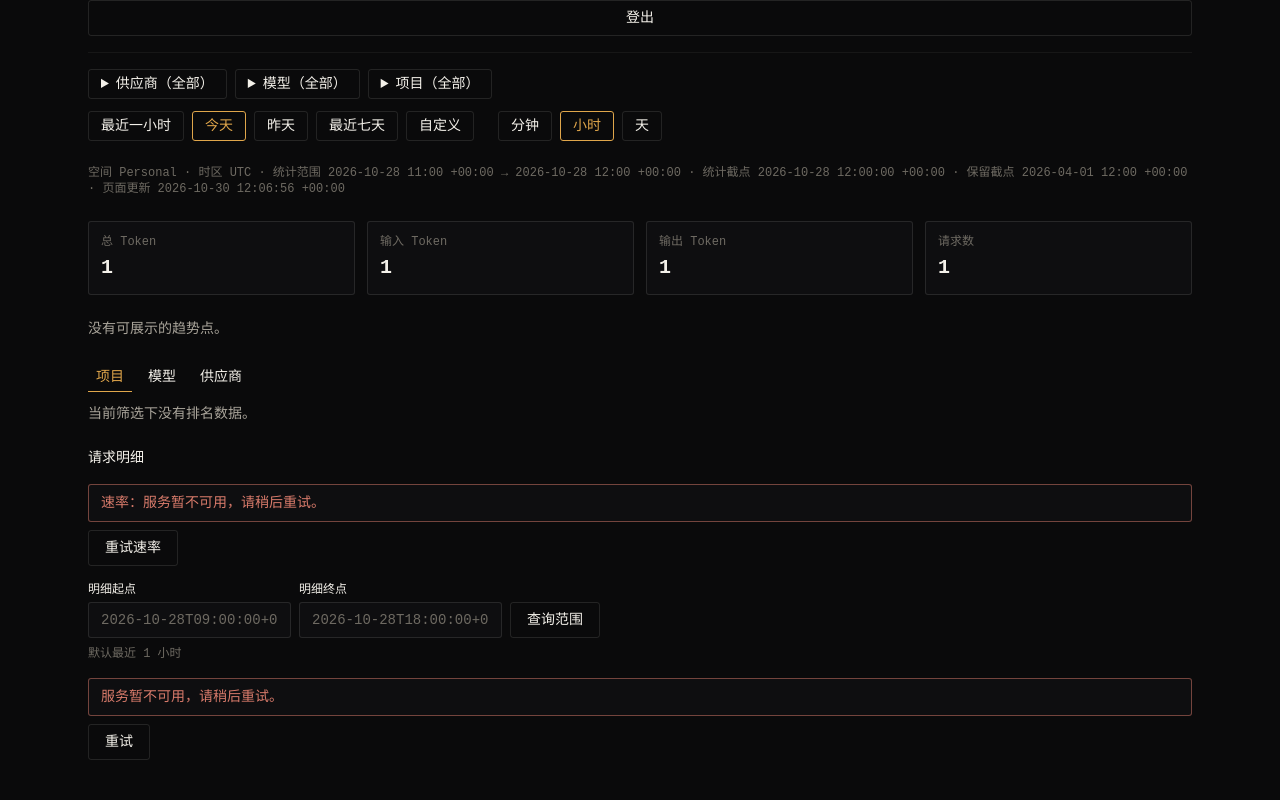
Test case: request log panel › shows first-load errors with retry for rows and rate
(page scrolled)
Expected: the text "服务暂不可用，请稍后重试。" is shown, [101,689,283,705]
Expected: the text "速率：服务暂不可用，请稍后重试。" is shown, [101,495,325,511]
Click the button "重试" at (119, 742), box [88,724,150,760]
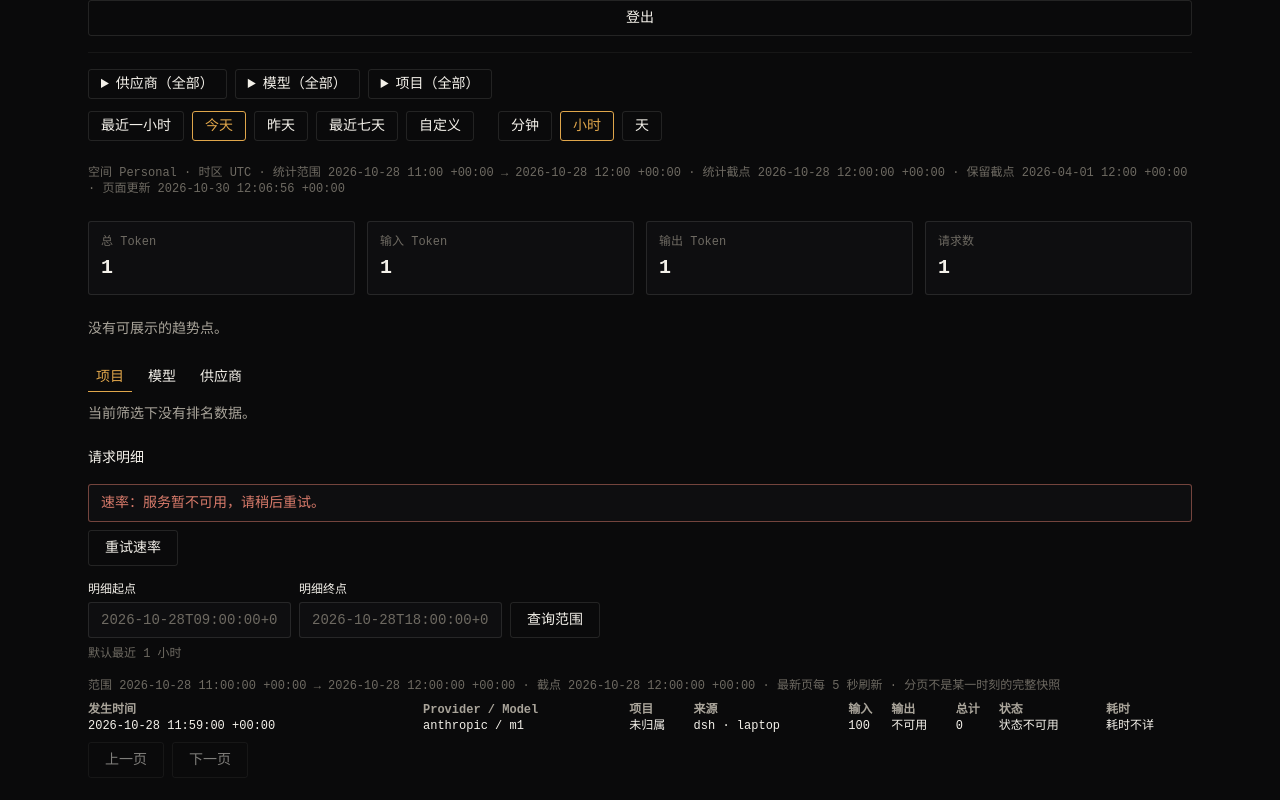
Expected: the row with test id "request-row" is shown, [88,718,1192,734]
Click the button "重试速率" at (133, 548), box [88,530,178,566]
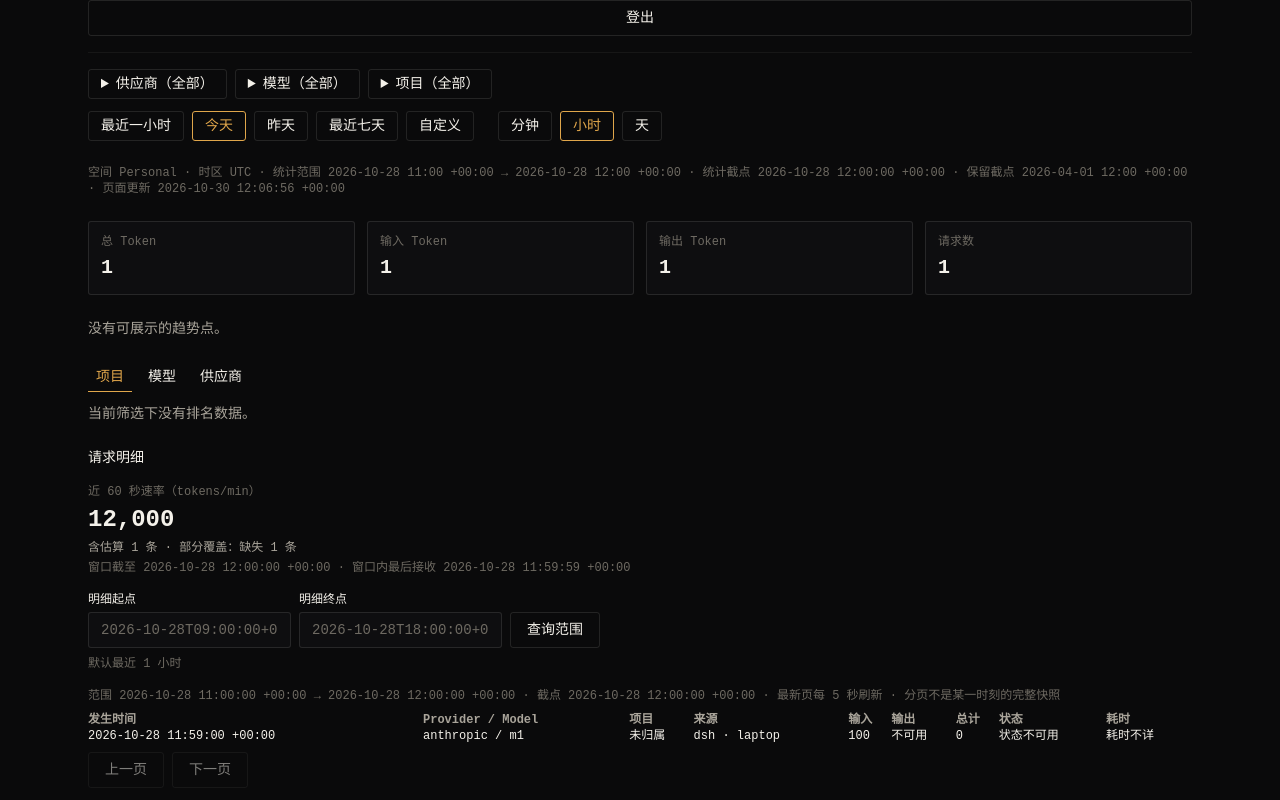
Expected: the text "12,000" is shown, [88,506,174,533]
